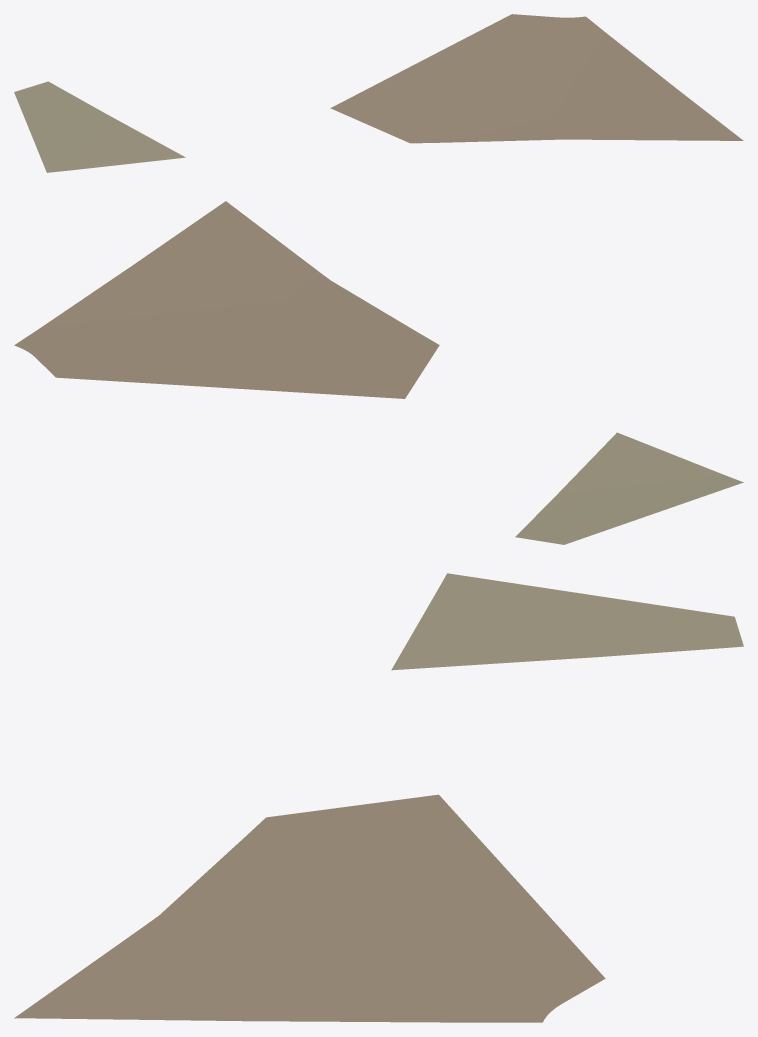
The model's file is farm_24_11_soil.glb.
The picture shows the model from 3 angles, top to bottom: view 1: azimuth 30°, elevation 25°; view 2: azimuth 150°, elevation 25°; view 3: azimuth 270°, elevation 25°; orthographic projection. The views are drawn at different scales.
Visible parts, largest first — view 1: geometry_0; view 2: geometry_0; view 3: geometry_0.
Part boxes in pixels (x1,y1,x2,y2): geometry_0: (14,14,743,172); geometry_0: (14,201,743,544); geometry_0: (14,573,743,1022).
Bounding box in the file's own units: 173 × 1.87 × 120.
